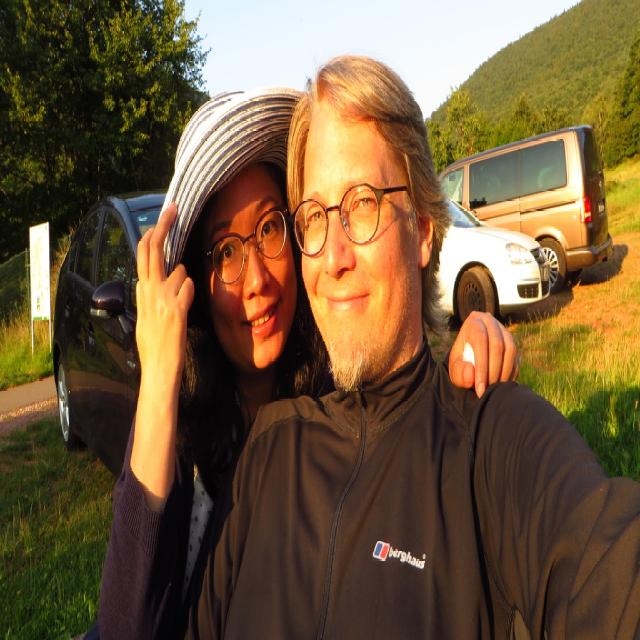car: (49, 189, 166, 472)
